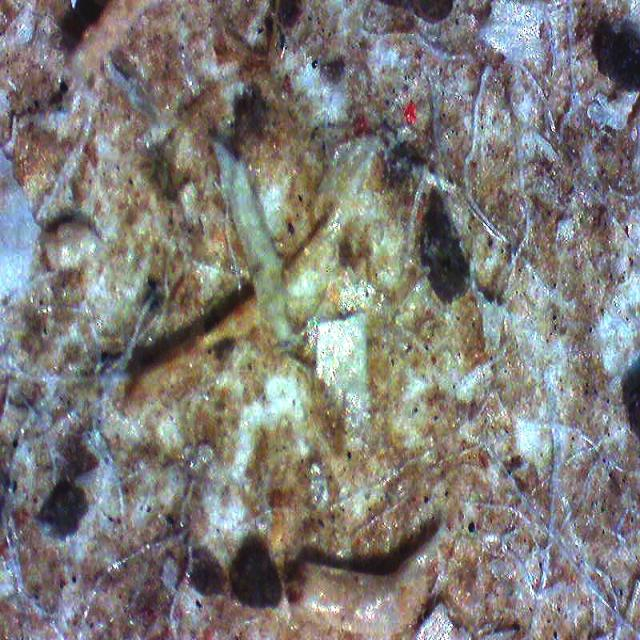microplastic: (315, 307, 374, 481)
